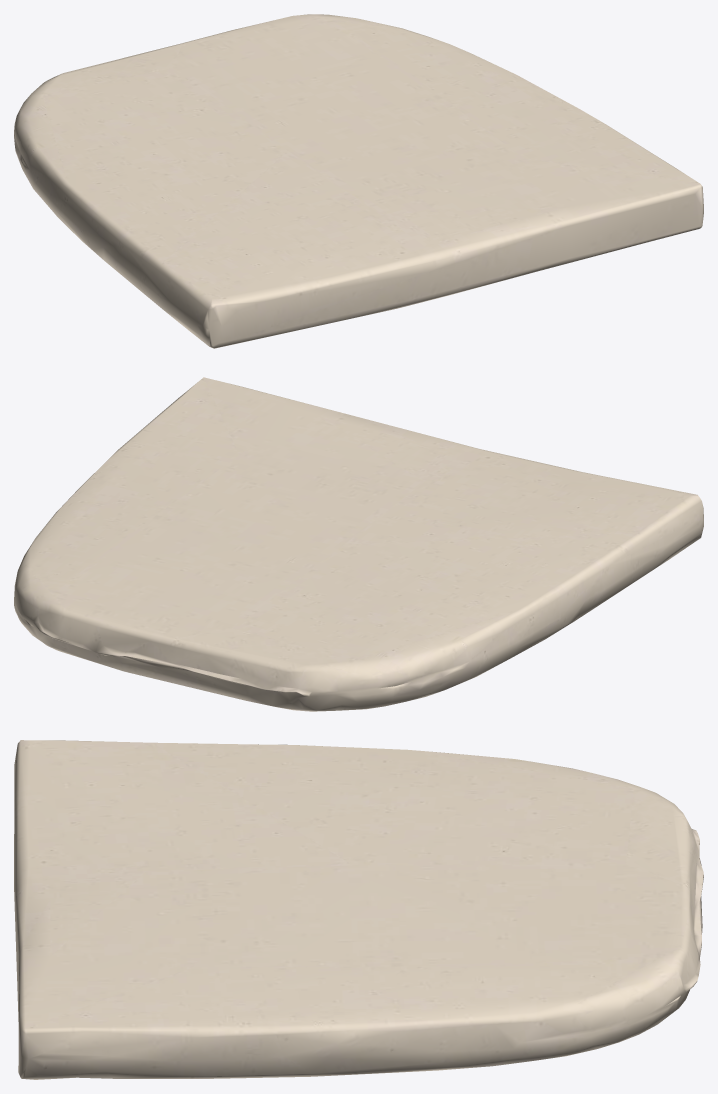
The model's file is 26 - NORNA - 椅墊，Laila 自然色 IKEA 線上購物.glb.
3 renders of one model, top to bottom at view 1: azimuth 30°, elevation 25°; view 2: azimuth 150°, elevation 25°; view 3: azimuth 270°, elevation 25°, orthographic. The views are drawn at different scales.
Parts seen in each view (by area): view 1: ProcessedMeshNode; view 2: ProcessedMeshNode; view 3: ProcessedMeshNode.
Part boxes in pixels (<box>): ProcessedMeshNode: <box>14,14,703,348</box>; ProcessedMeshNode: <box>14,377,703,711</box>; ProcessedMeshNode: <box>14,740,703,1079</box>.
Size of the model in its own units: 0.4233 by 0.0422 by 0.4173.
1 material, 1 textured.
